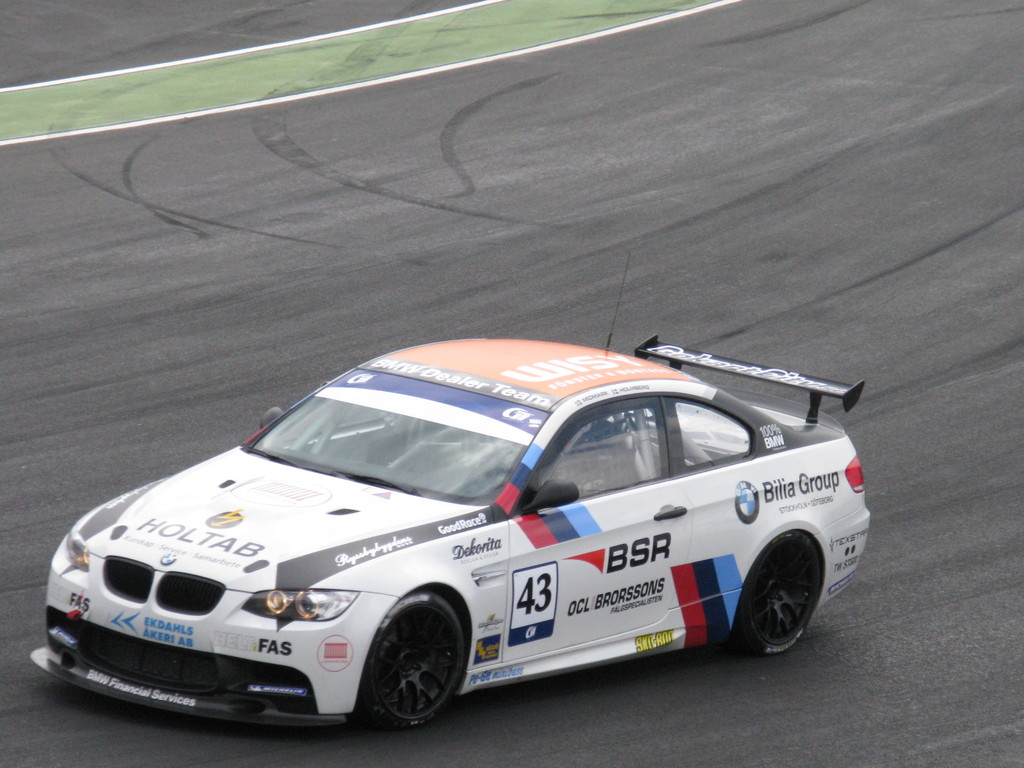Car: (30, 316, 901, 738)
